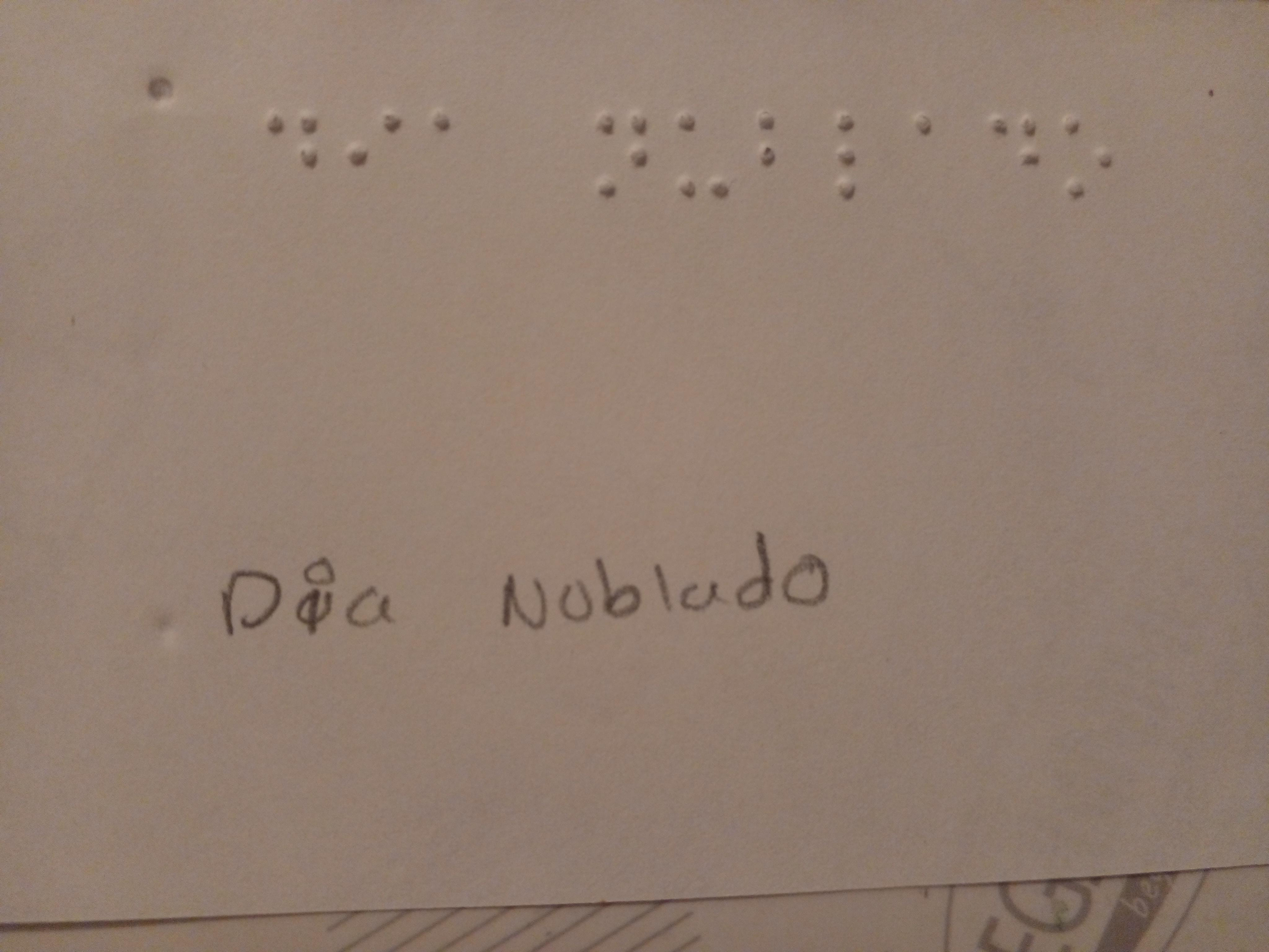a: (412, 85, 468, 155), (881, 99, 957, 150)
b: (739, 105, 795, 177)
d: (251, 77, 335, 195), (971, 102, 1052, 169)
i: (341, 91, 409, 191)
l: (813, 108, 878, 206)
n: (586, 98, 654, 203)
o: (1060, 110, 1114, 206)
u: (668, 104, 734, 209)
